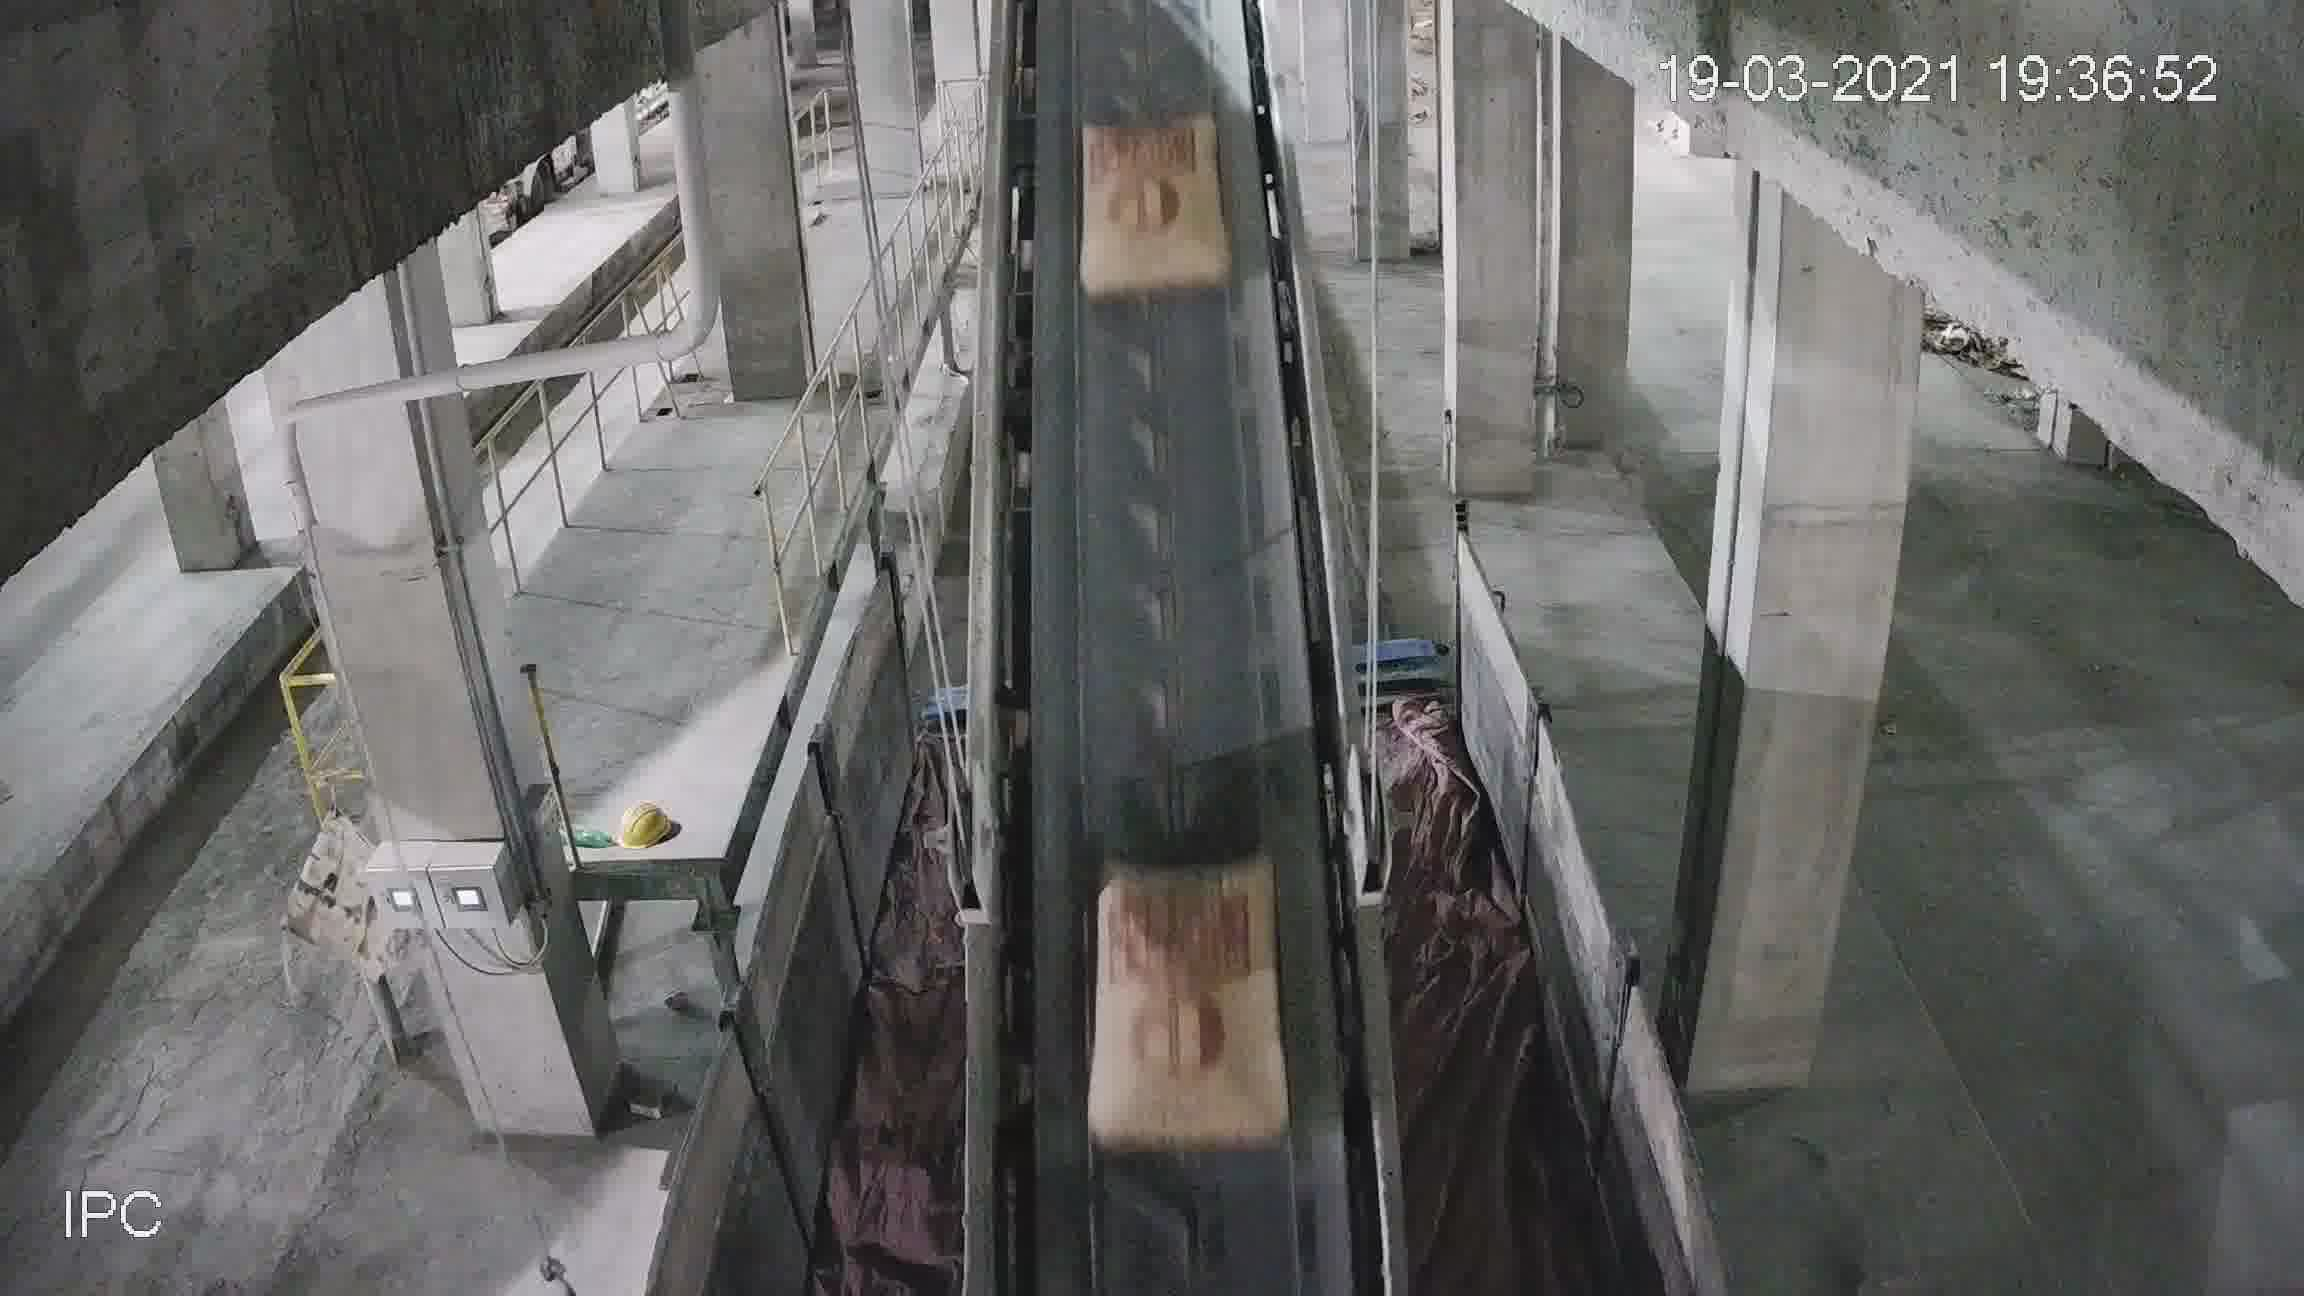bag: (1086, 866, 1287, 1146), (1076, 128, 1226, 296)
belt: (959, 46, 1347, 1161)
